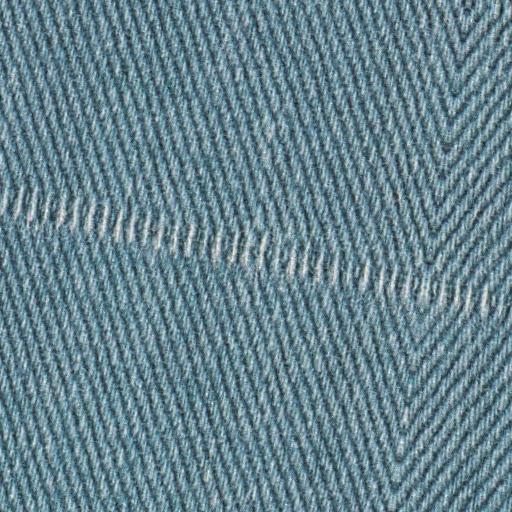slub: (0, 176, 511, 329)
